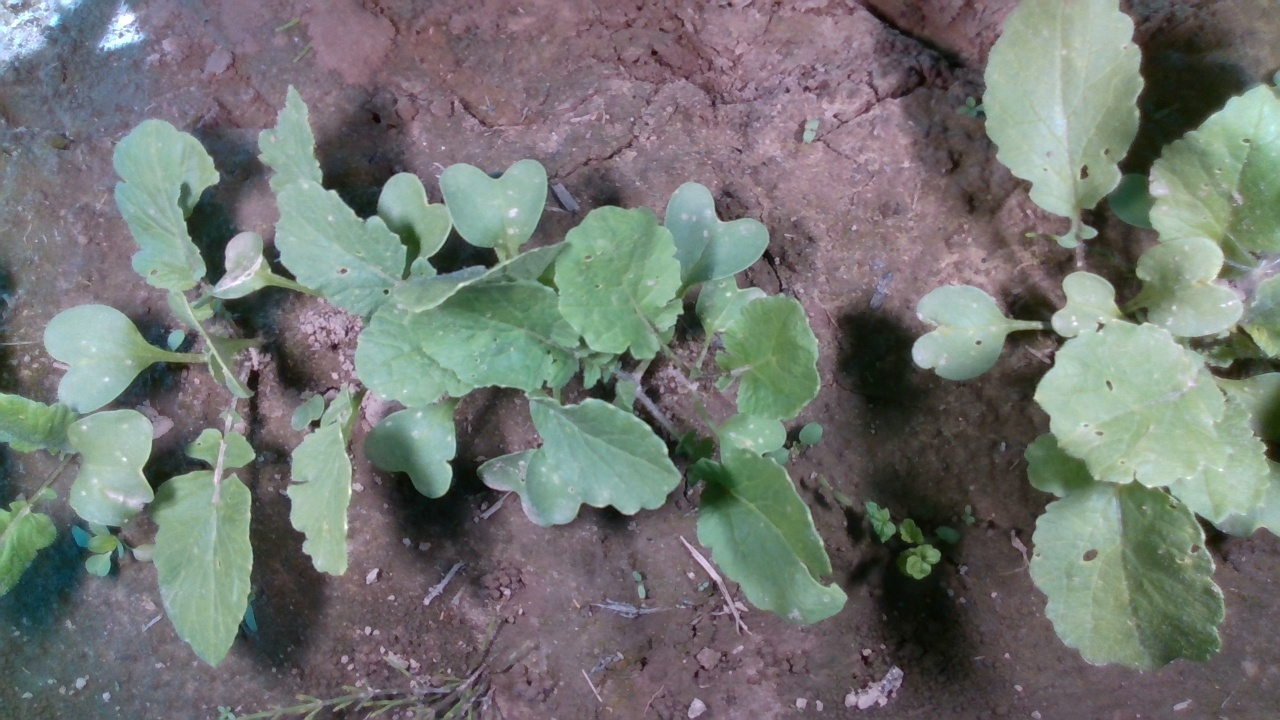weed: (802, 116, 821, 145), (632, 569, 647, 600)
